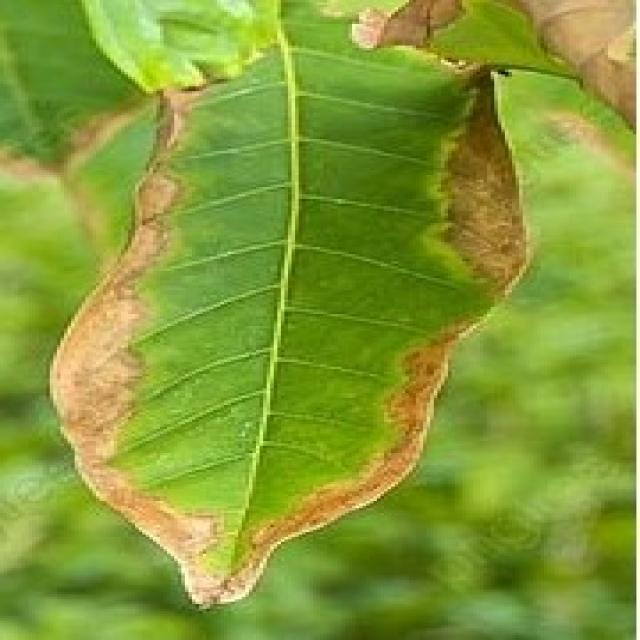Leaf Blight: (44, 88, 610, 606), (31, 64, 119, 578)
